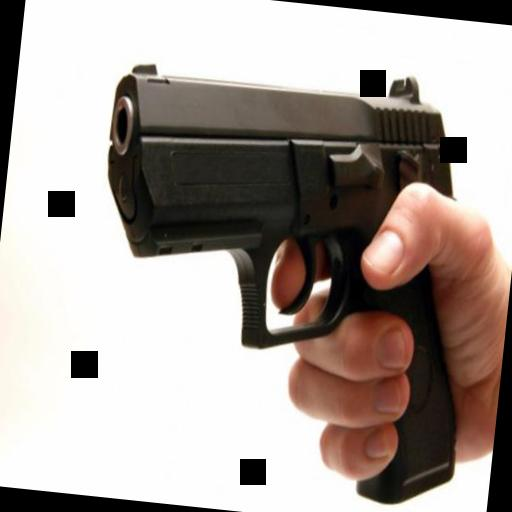Handgun: (70, 51, 498, 512)
